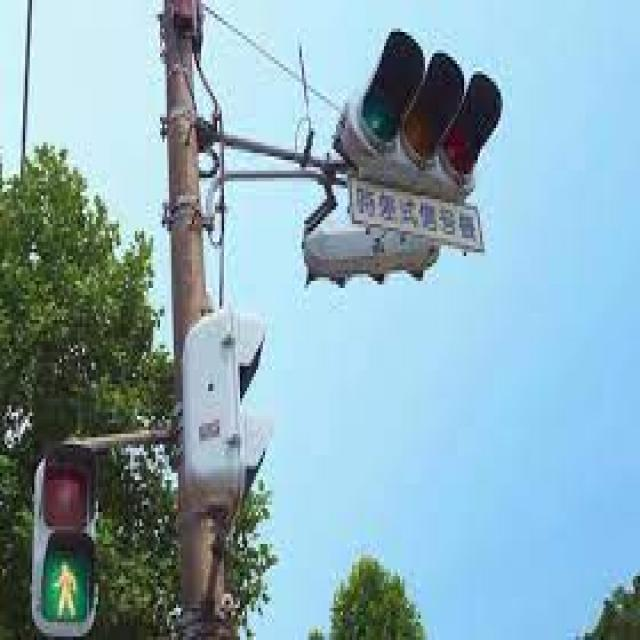trafficlight: (30, 441, 96, 633)
